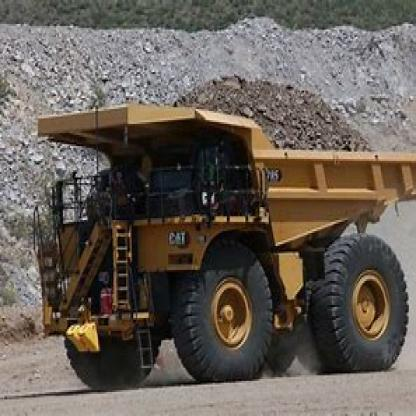dump_truck: (37, 70, 414, 385)
